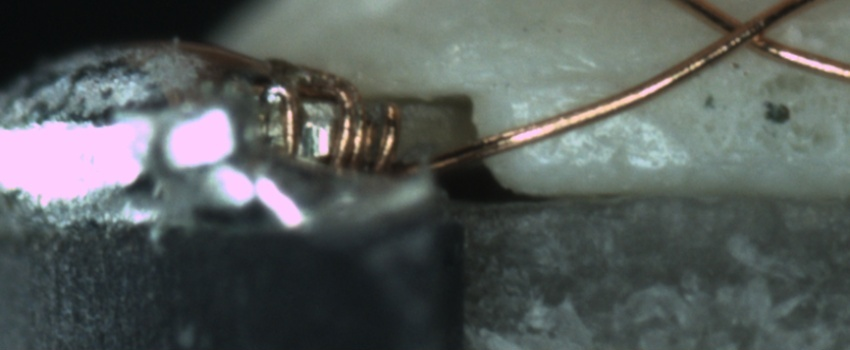CL: (698, 2, 787, 58)
DL: (500, 59, 620, 109)
TE: (262, 53, 415, 192)
